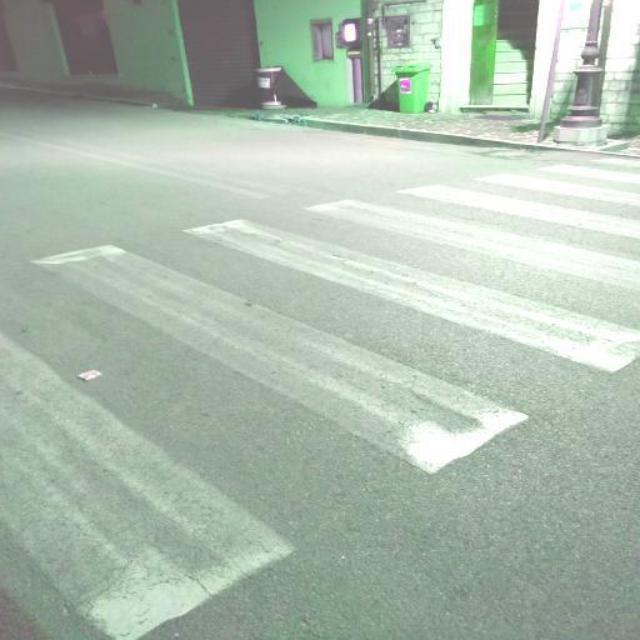sidewalk: (0, 142, 640, 640)
